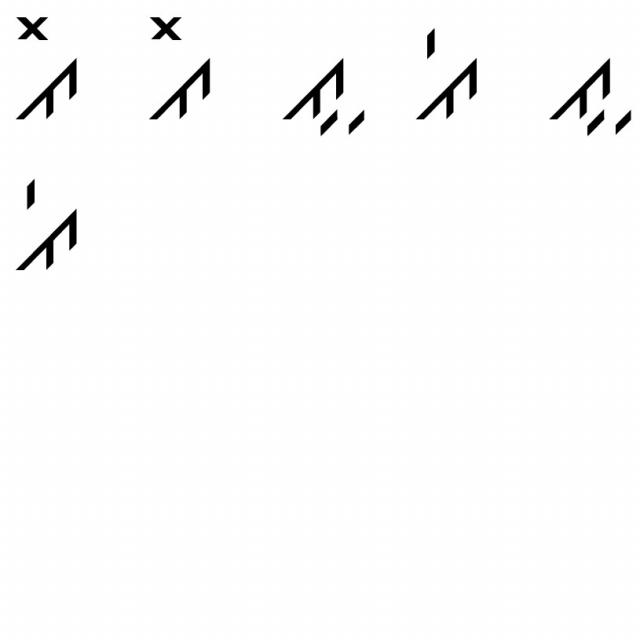kah: (269, 38, 374, 143), (543, 46, 636, 140)
ke: (8, 170, 88, 282), (410, 23, 480, 122)
ko: (130, 10, 224, 128), (9, 8, 88, 132)
